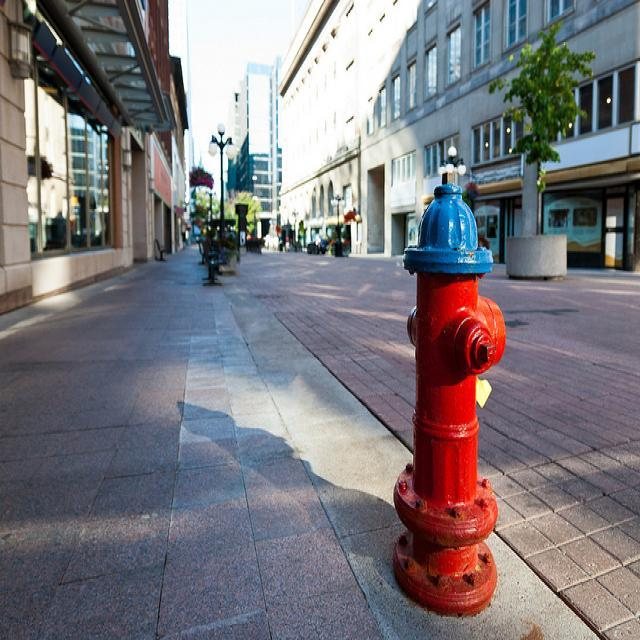fire_hydrant: (391, 170, 506, 618)
